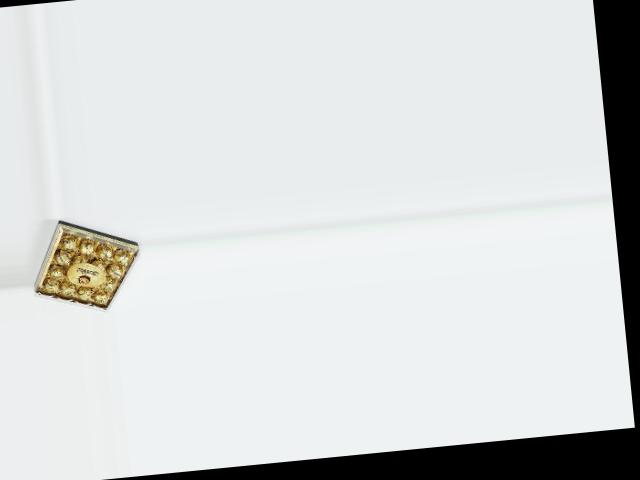chocolate: (25, 210, 147, 318)
